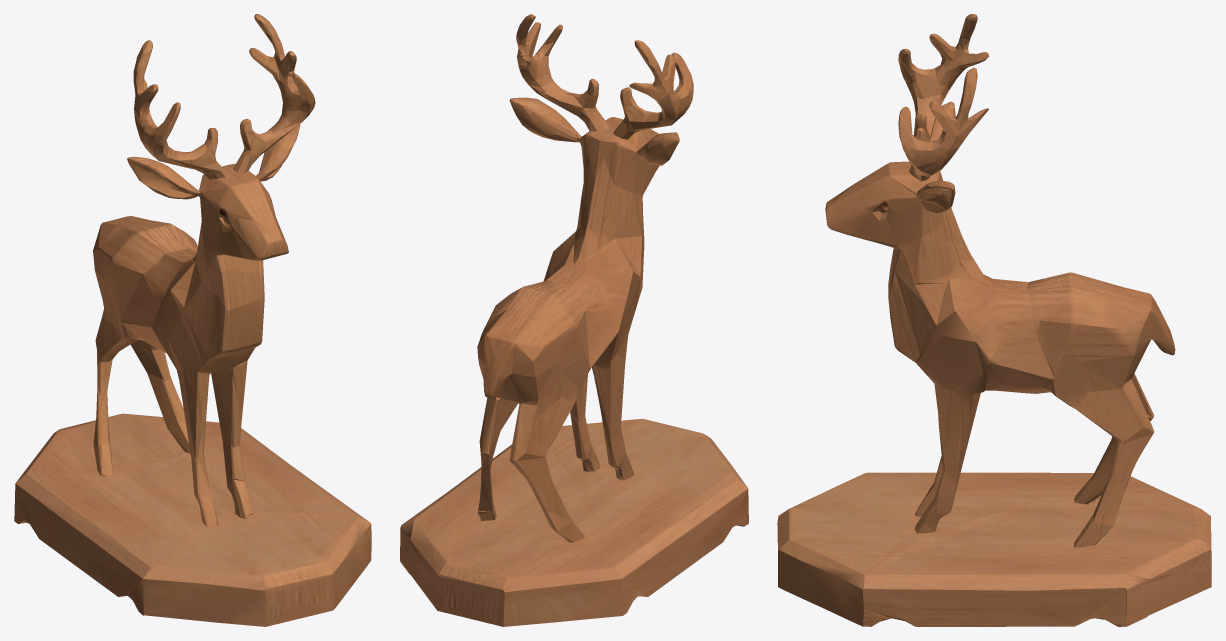
File: deer_figurine.glb
The picture shows the model from 3 angles, left to right: view 1: azimuth 30°, elevation 25°; view 2: azimuth 150°, elevation 25°; view 3: azimuth 270°, elevation 25°; orthographic projection. The views are drawn at different scales.
Size of the model in its own units: 0.8743 by 1.9 by 1.41.
Materials: 1 (1 with a texture image).
